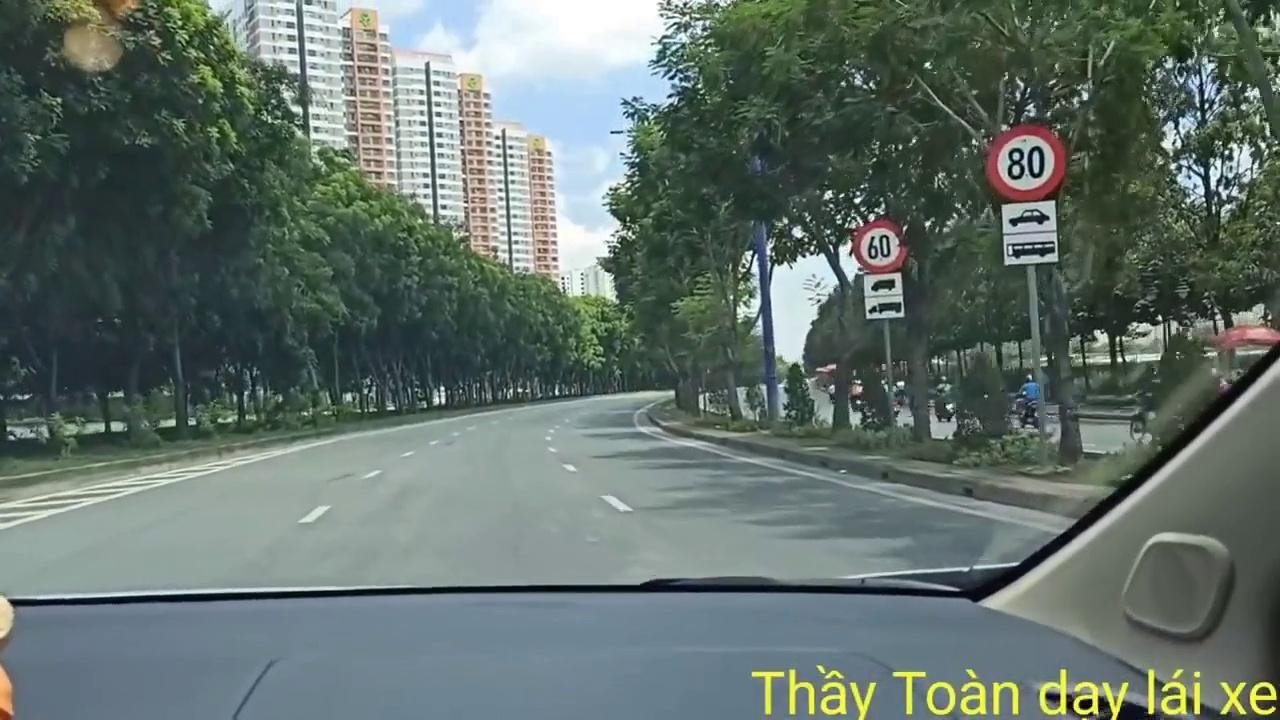Biển phụ: (1000, 198, 1060, 264), (864, 274, 906, 319)
GIơi hạn tốc độ 60Km/h: (853, 217, 907, 274)
Giới hạn tốc độ 80Km/h: (984, 123, 1068, 204)
